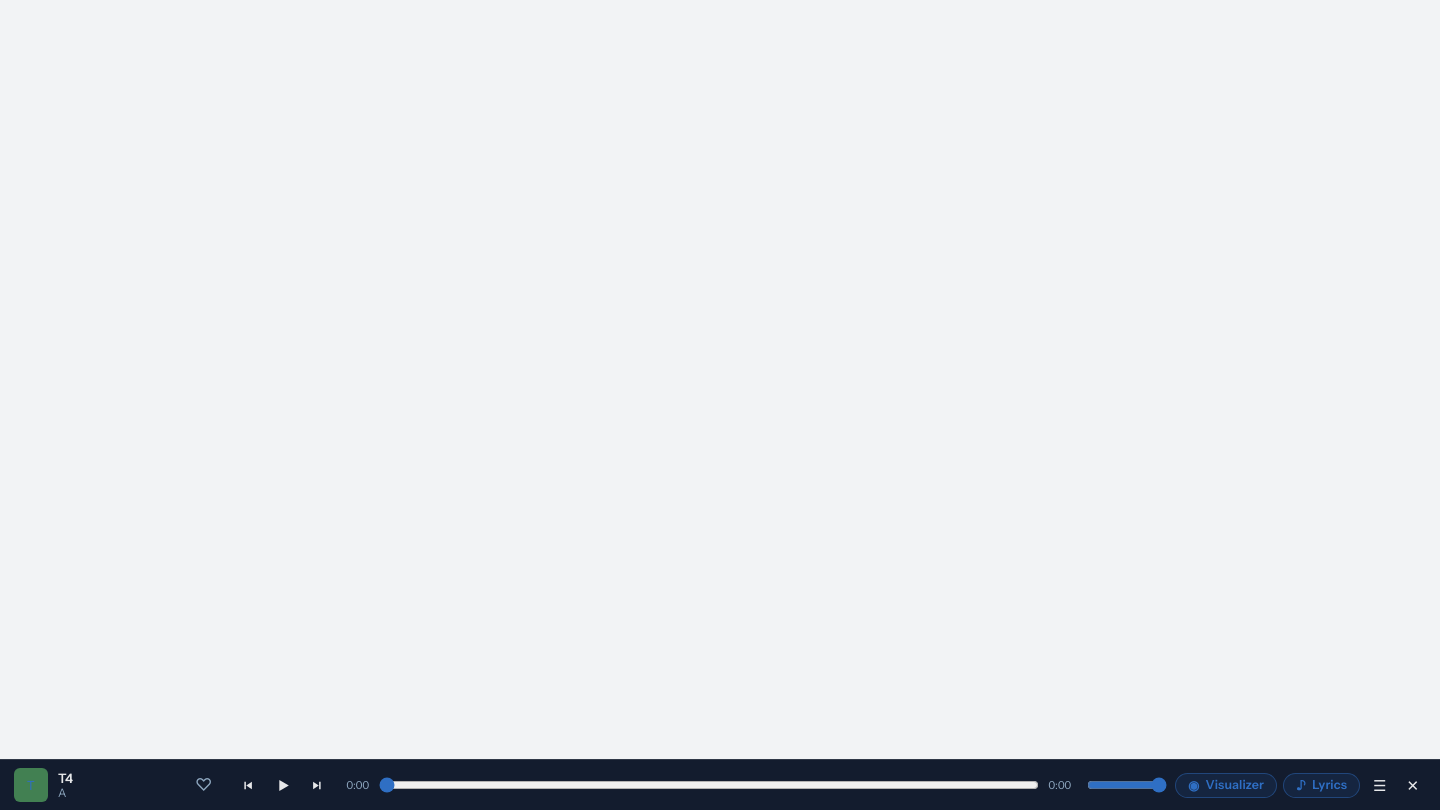
Test: shuffling the queue from the bar › is enabled as soon as two tracks are ahead of the playhead
Click the button named "Queue": [1380, 785] box [1366,774,1394,796]
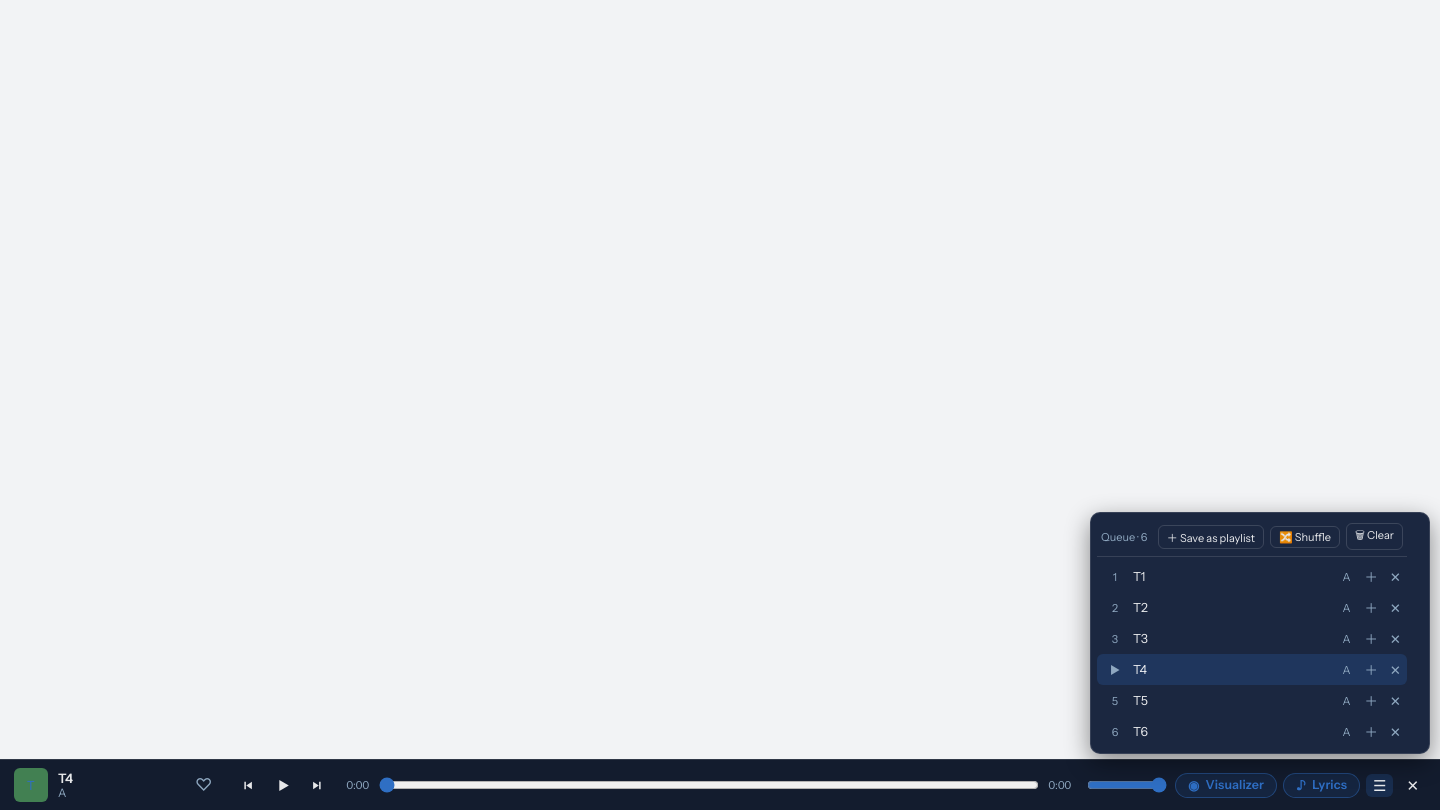
Expected: the button with test id "music-queue-shuffle" is enabled, [1270,526,1340,548]
